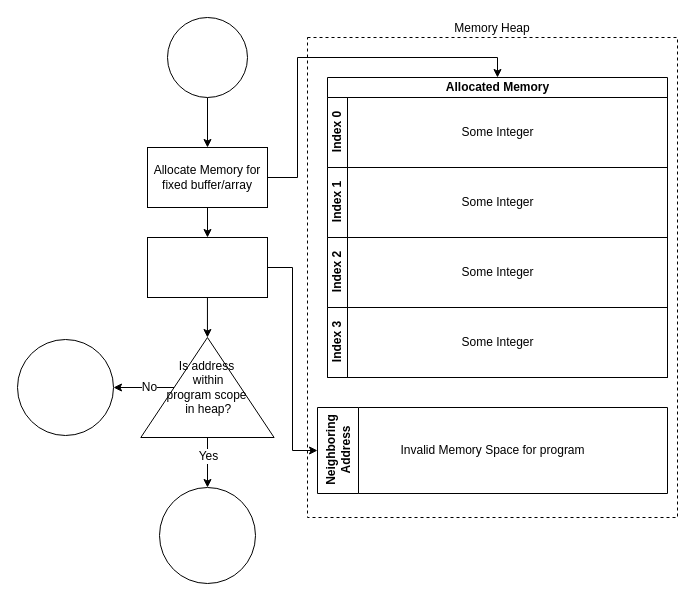
This 695x601 diagram has some shape labels left out. Here are the shapes that lost their labels. From the top down, the centre of each, then its label:
At [207,57]: "Program Starts".
At [207,267]: "Program attempts to access invalid memory space past buffer".
At [65,387]: "Program ends with segmentation fault".
At [207,535]: "Program overrwrites other data pieces in memory buffer".
